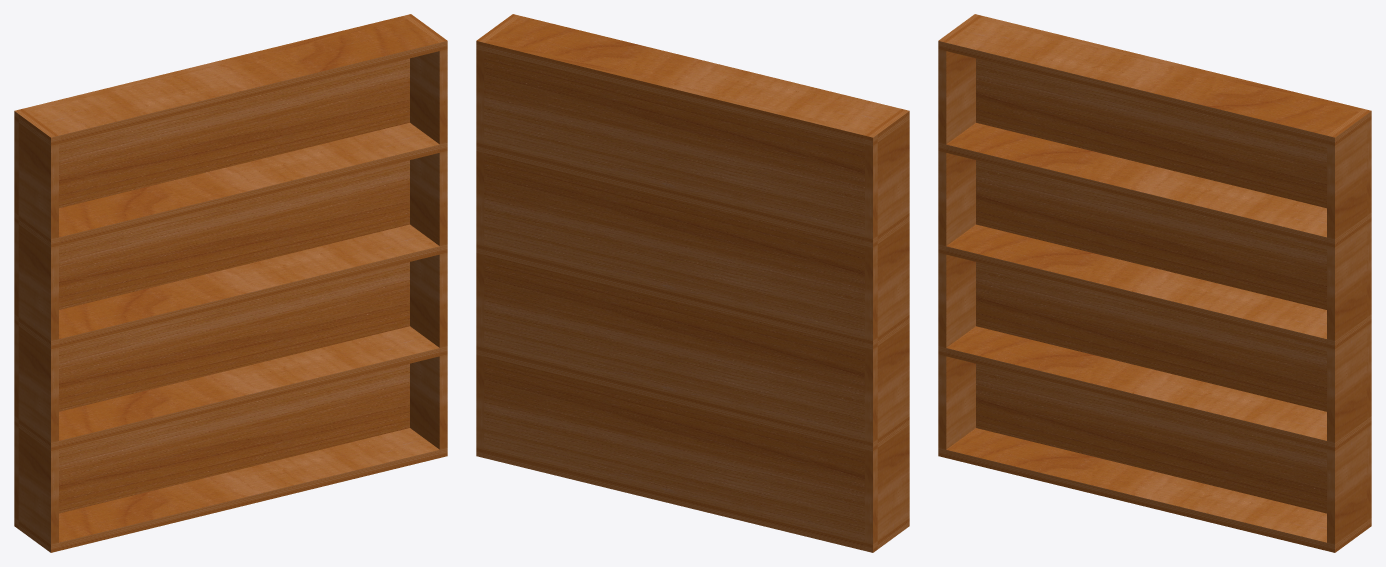
The model's file is shelf.obj.
3 renders of one model, left to right at view 1: azimuth 30°, elevation 25°; view 2: azimuth 150°, elevation 25°; view 3: azimuth 330°, elevation 25°, orthographic.
Parts seen in each view (by area): view 1: Cube; view 2: Cube; view 3: Cube.
Boxes of the visible parts, x1=… form: Cube: x1=14, y1=14, x2=447, y2=552; Cube: x1=476, y1=14, x2=909, y2=552; Cube: x1=938, y1=14, x2=1371, y2=552.
Size of the model in its own units: 50 by 50 by 8.
